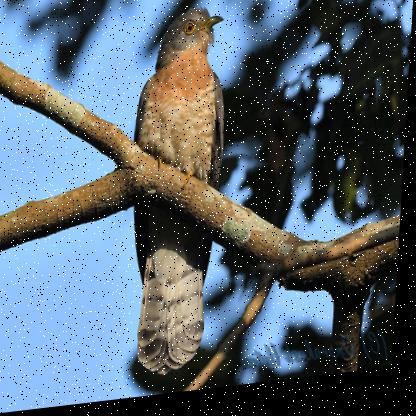Burung: (125, 8, 233, 384)
